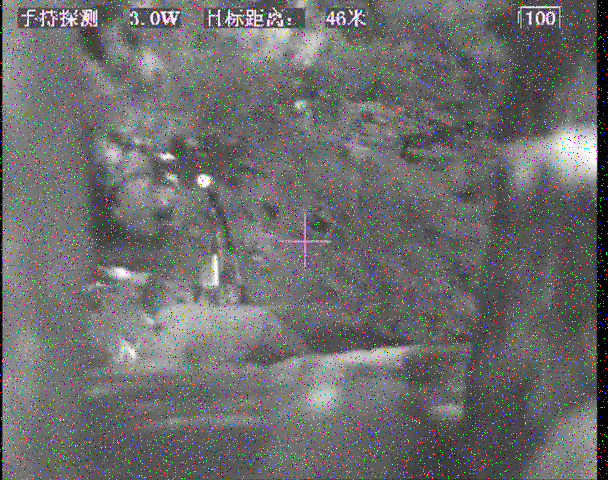my: (195, 173, 211, 188)
